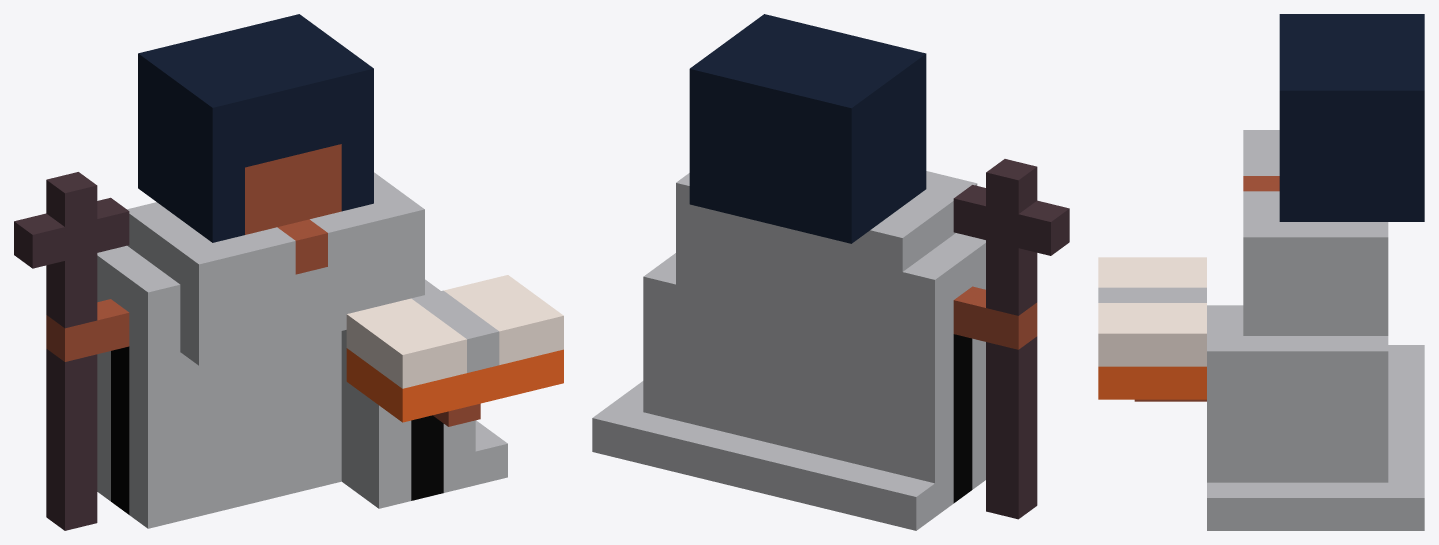
File: priestess.obj
The picture shows the model from 3 angles, left to right: view 1: azimuth 30°, elevation 25°; view 2: azimuth 150°, elevation 25°; view 3: azimuth 270°, elevation 25°; orthographic projection. The views are drawn at different scales.
Bounding box in the file's own units: 1.3 × 1.2 × 0.9.
Materials: 1 (1 with a texture image).
